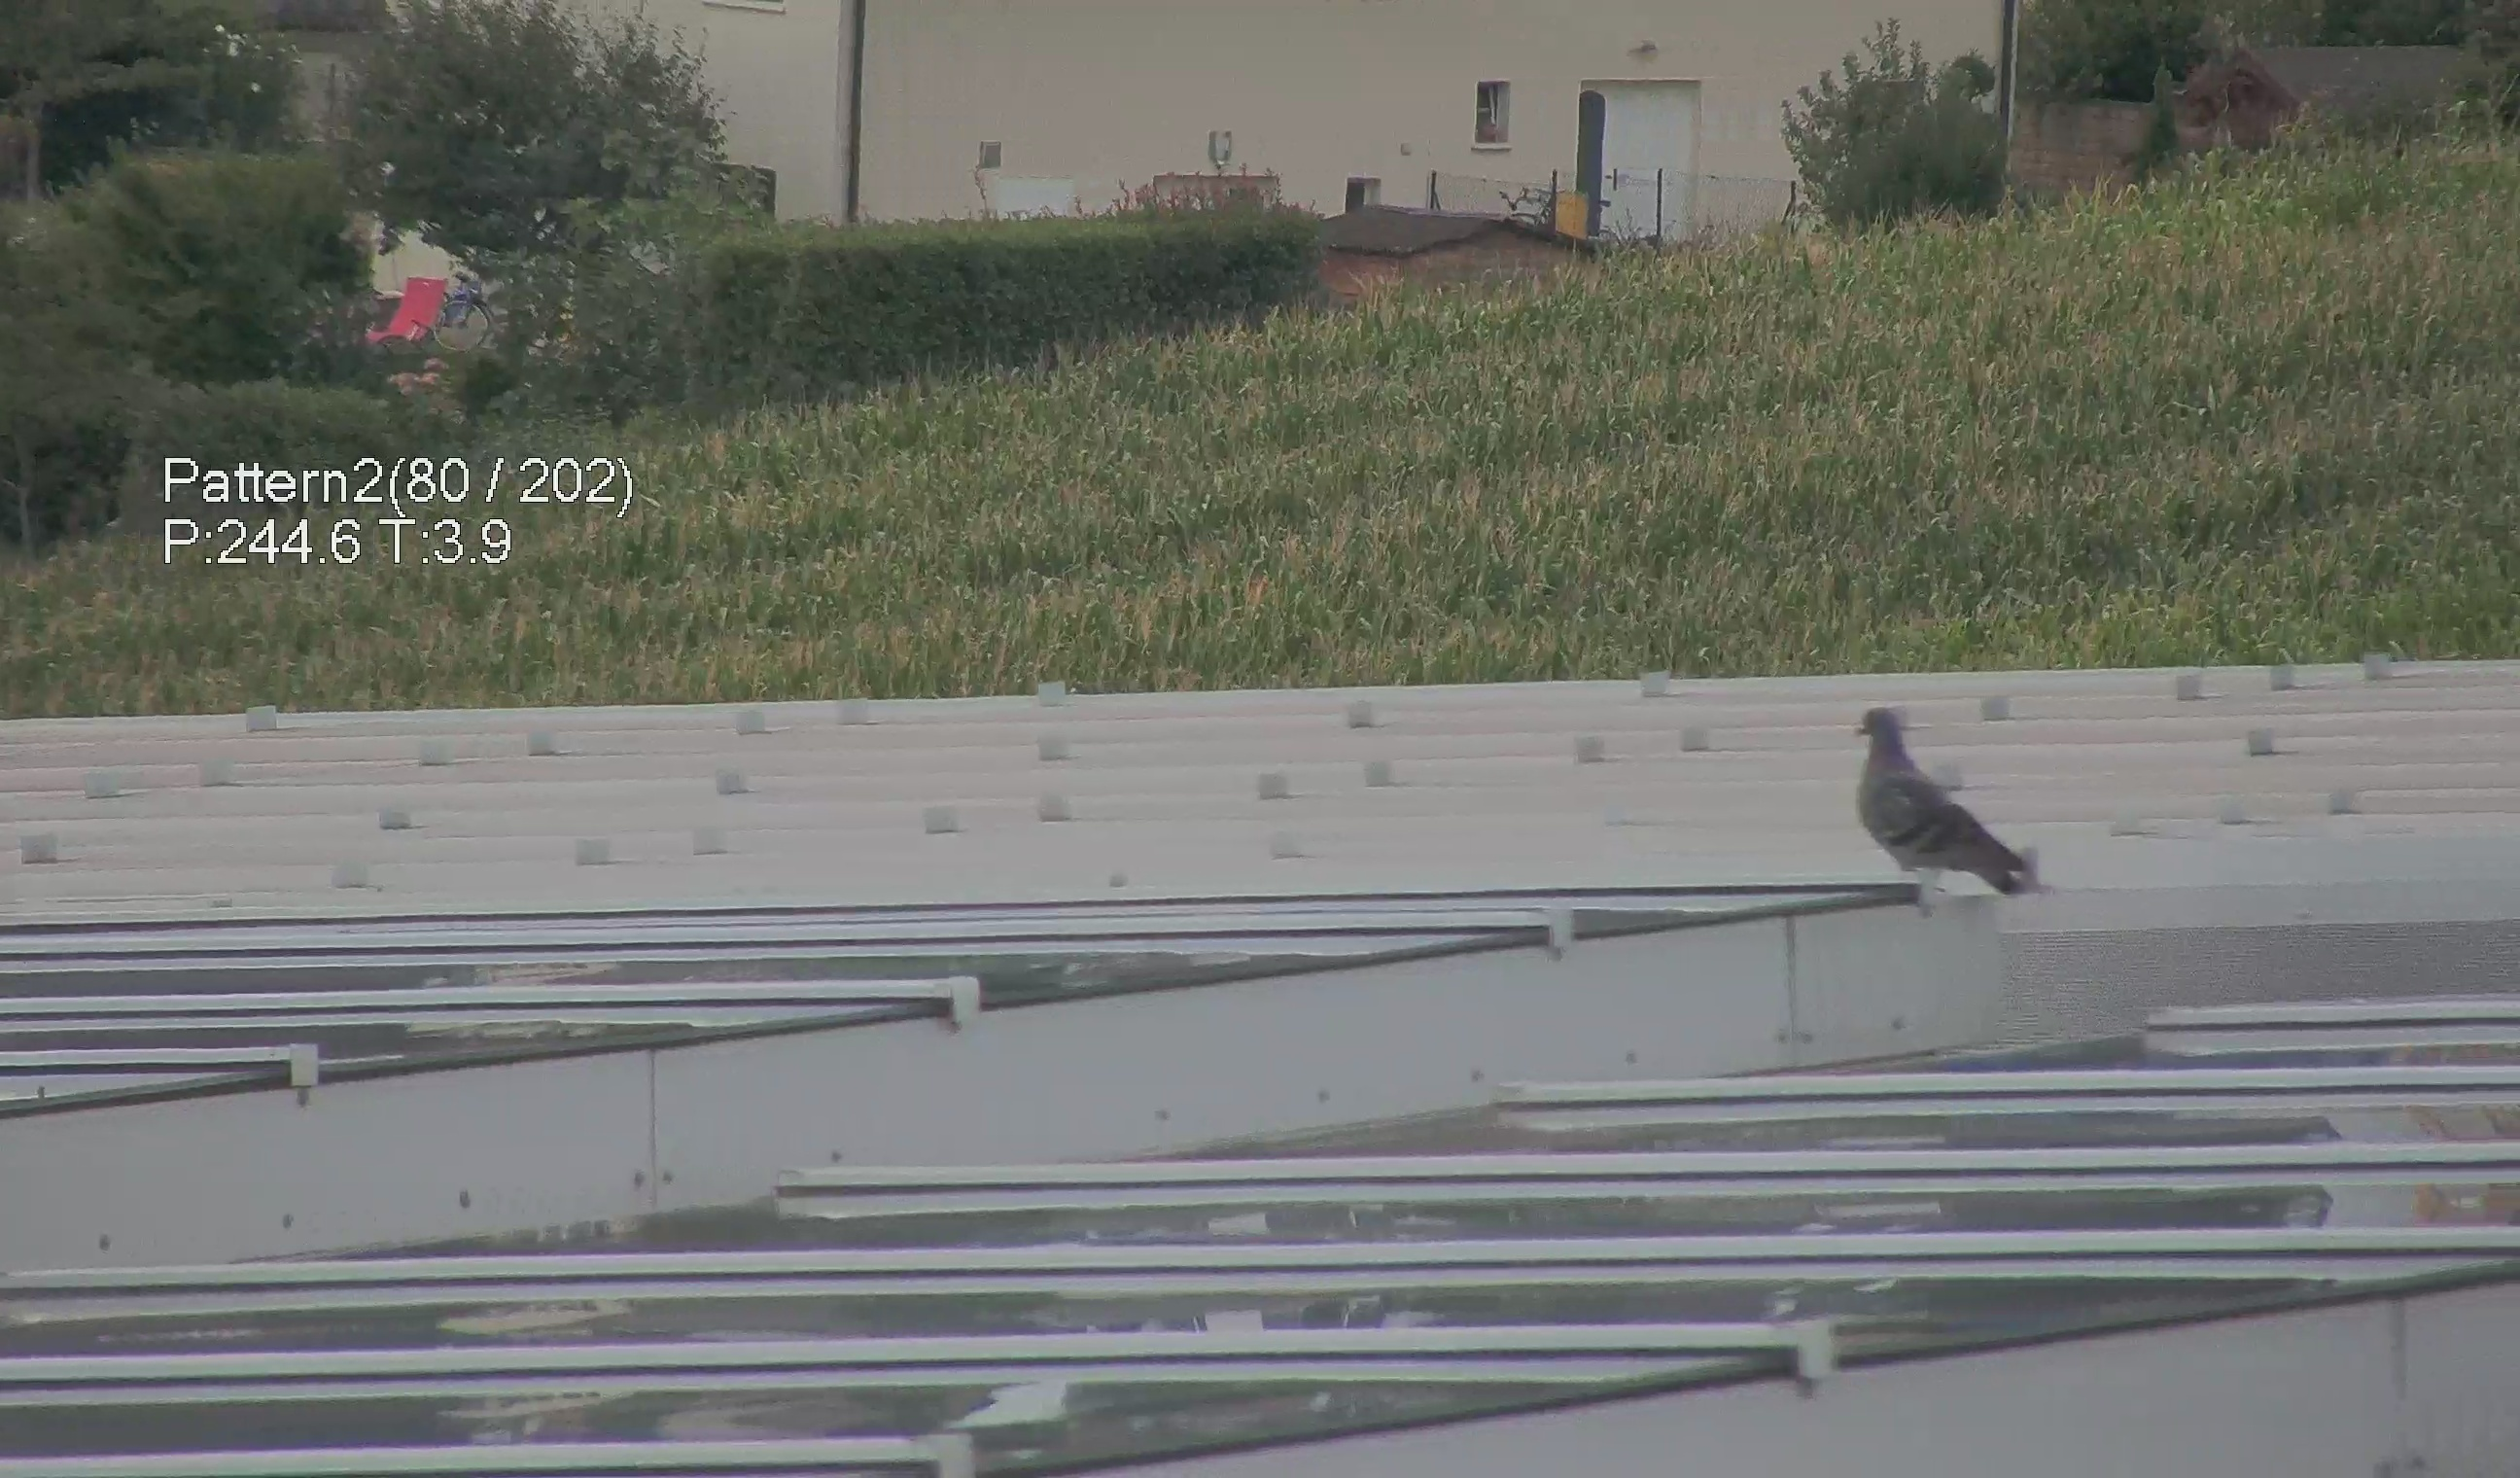Pigeon: (1836, 691, 2049, 922)
